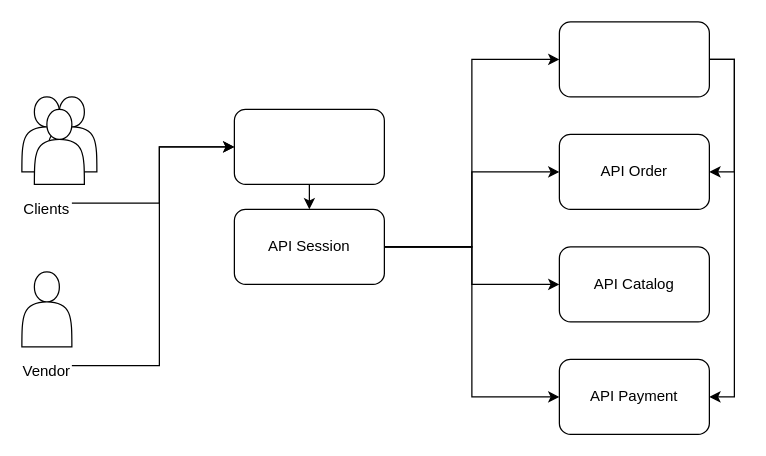
The diagram is 766 pixels wide and 456 high, and some of its shapes have lost their labels. The shapes that lost their labels are listed below. From the top down, each one's centre as x and y in pixels, then its label:
the point at 633,59: API Party
the point at 308,146: API Gateway
